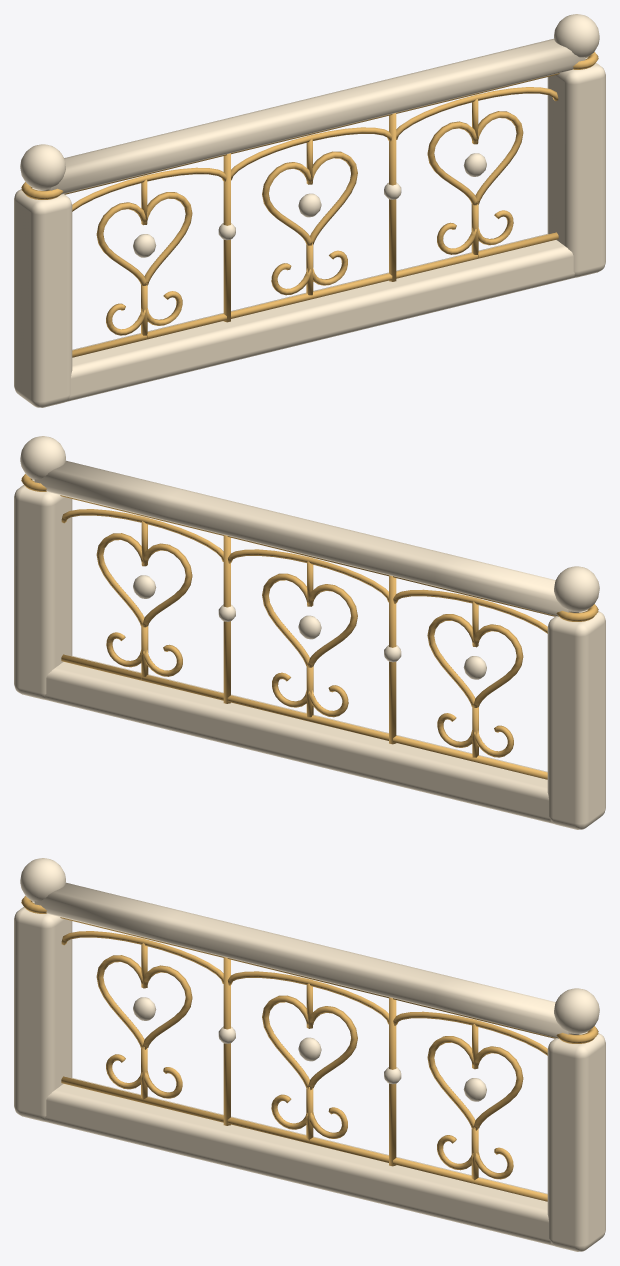
The model's file is filigree-railing.glb.
3 renders of one model, top to bottom at view 1: azimuth 30°, elevation 25°; view 2: azimuth 150°, elevation 25°; view 3: azimuth 330°, elevation 25°, orthographic.
Visible parts, largest first — view 1: FiligreeRailing; view 2: FiligreeRailing; view 3: FiligreeRailing.
Boxes of the visible parts, x1=… form: FiligreeRailing: x1=14, y1=14, x2=605, y2=407; FiligreeRailing: x1=14, y1=436, x2=605, y2=829; FiligreeRailing: x1=14, y1=858, x2=605, y2=1251.
Bounding box in the file's own units: 2.15 × 0.905 × 0.1699.
